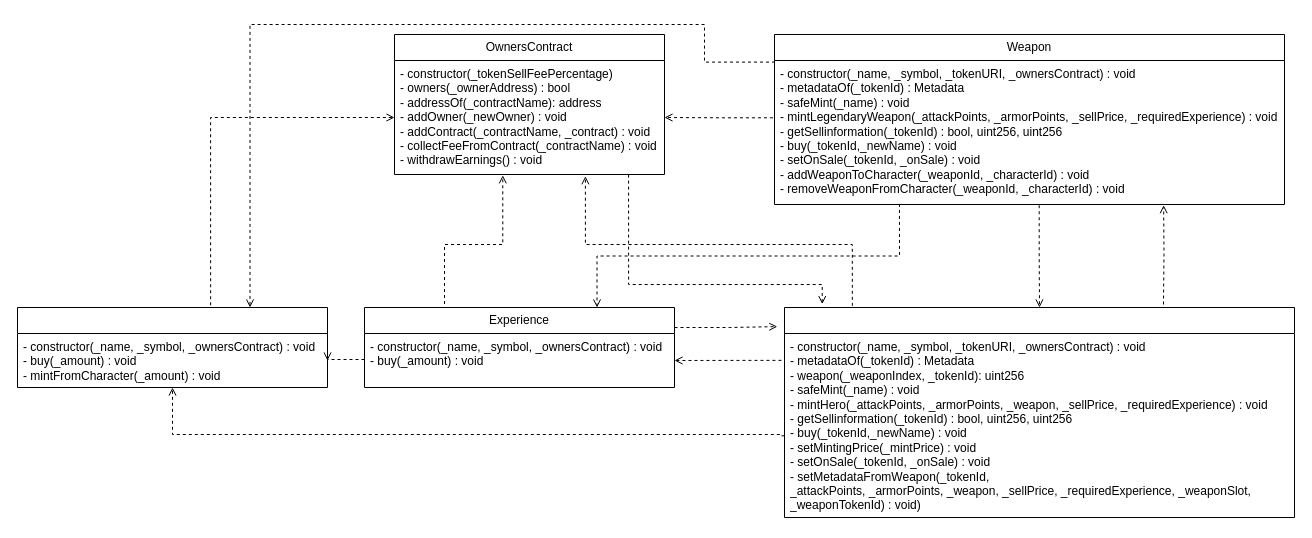
Image size: 1312x538. Some labels were removed from this diagram. Each missing label, with the box of its shape:
Character: (784, 306, 1294, 518)
Rubie: (16, 306, 328, 388)
